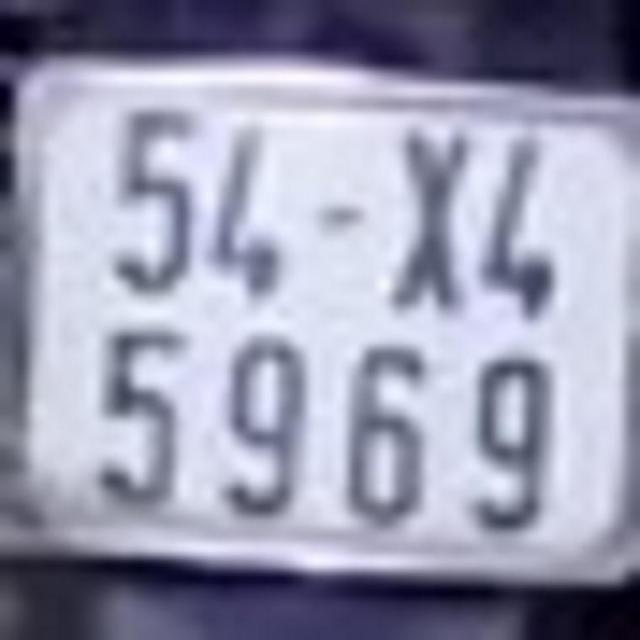4: (487, 129, 552, 321), (212, 120, 279, 305)
5: (98, 322, 185, 520), (117, 107, 191, 287)
6: (348, 336, 422, 524)
9: (470, 352, 560, 541), (223, 338, 299, 513)
X: (401, 123, 466, 319)
